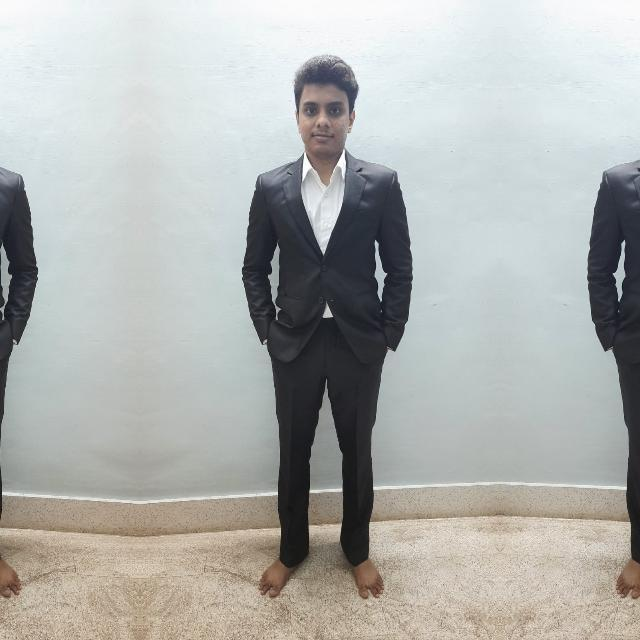person: (252, 47, 403, 609), (594, 47, 640, 609), (0, 47, 25, 609)
